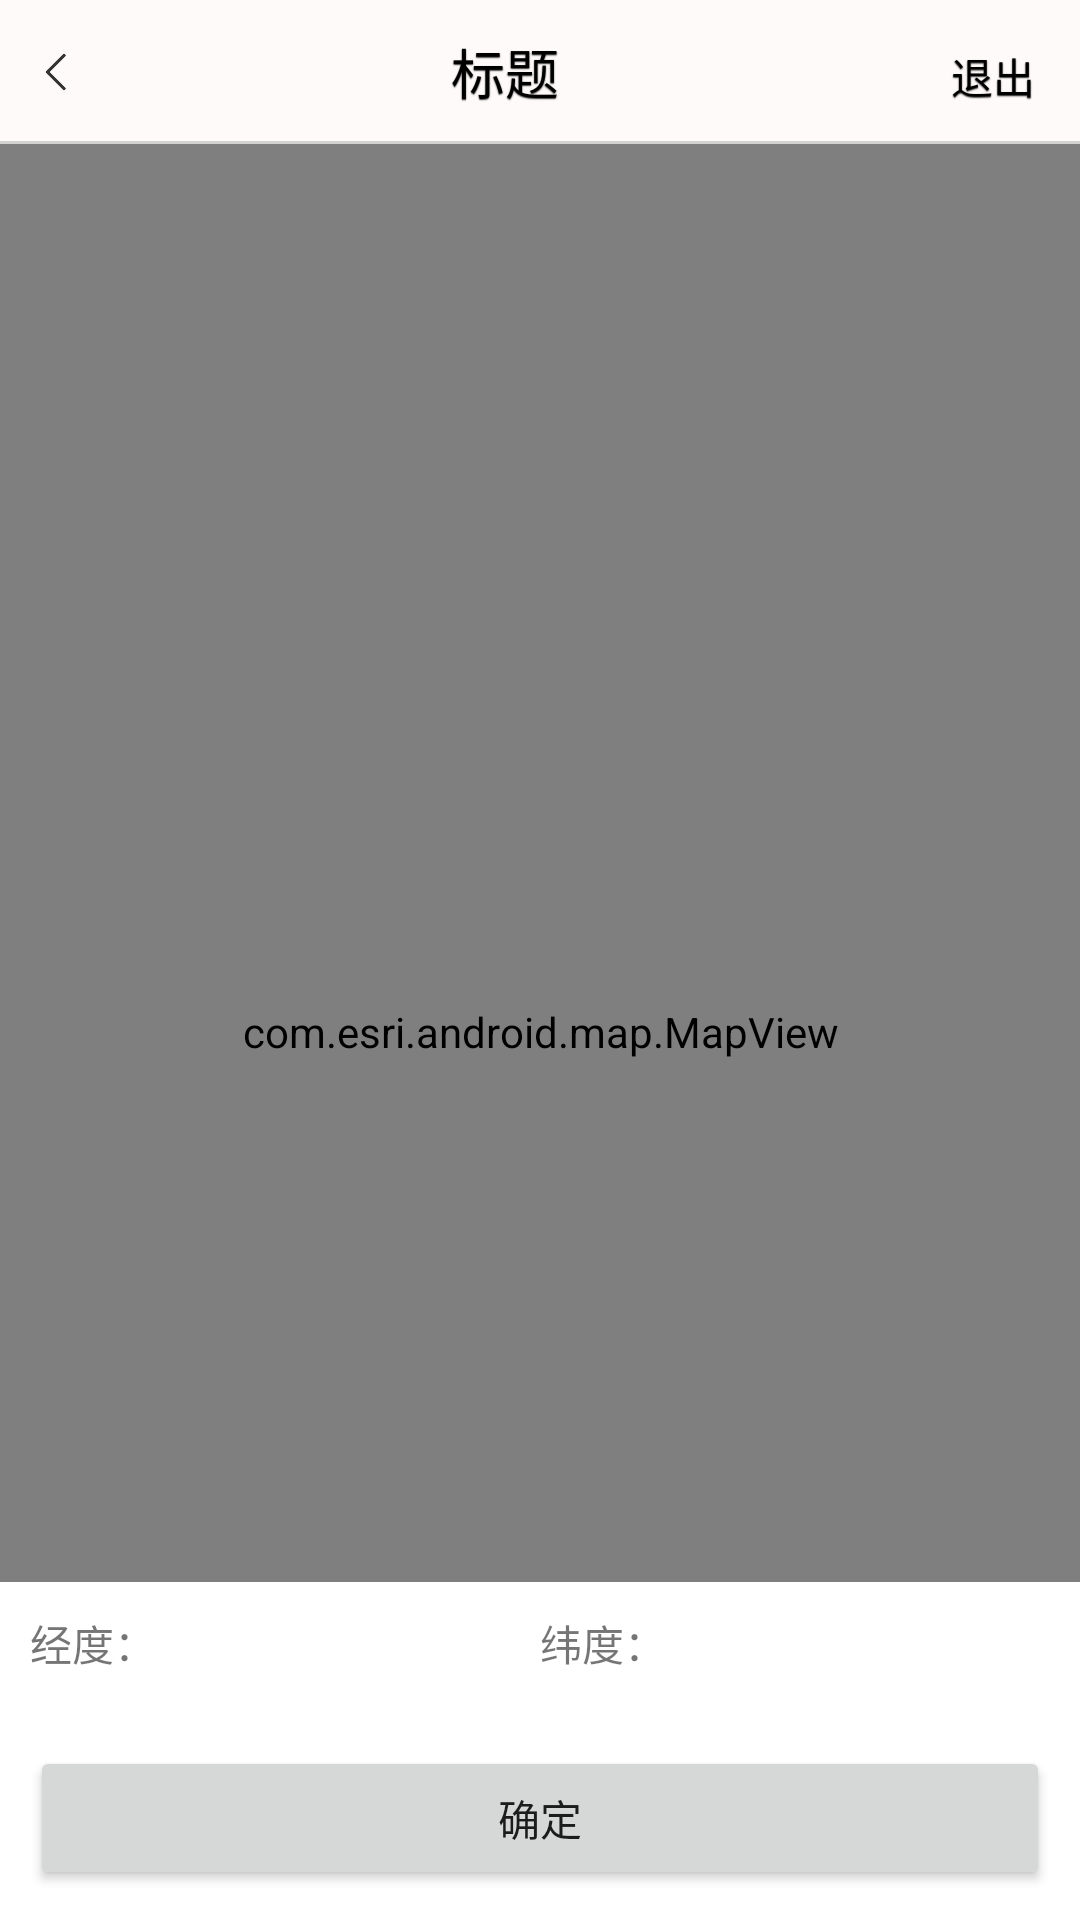

Where to tap for icons on this 1080w x 1920h app screen, as (x,y):
leftjt: (55,72)
